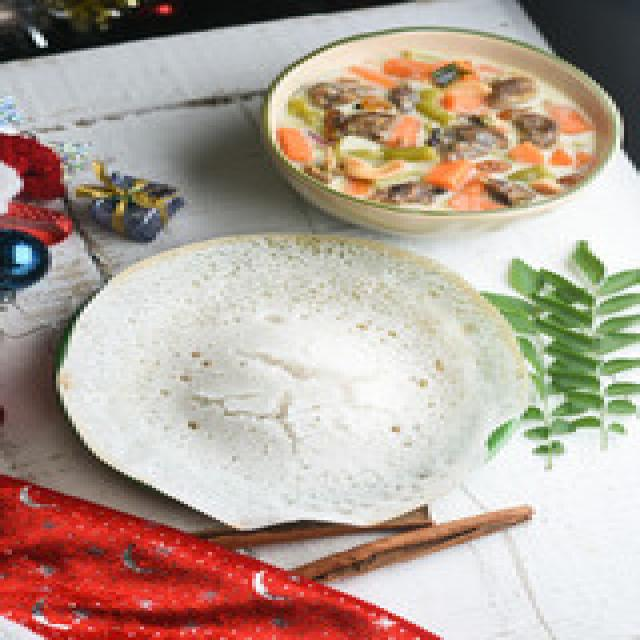AAPAM: (54, 235, 527, 535)
VEGGIES: (285, 52, 605, 206)
